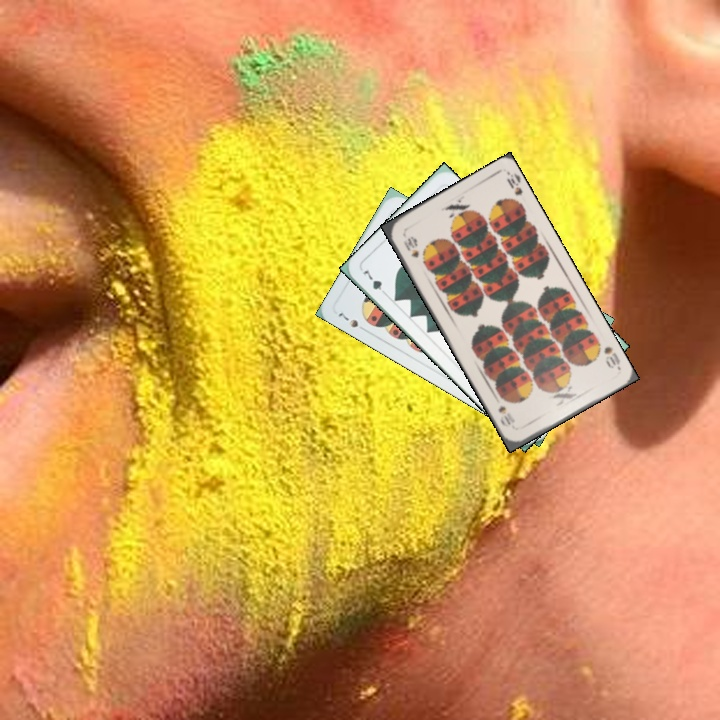G7: (358, 264, 390, 298)
S10: (599, 342, 623, 371), (399, 230, 422, 260)
S7: (334, 308, 370, 335)
